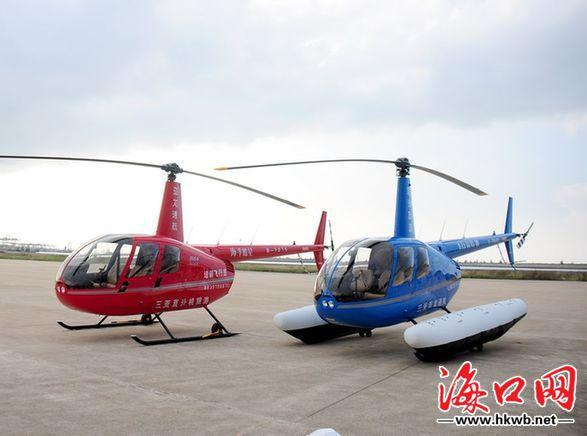airplane: (4, 153, 303, 364), (278, 152, 554, 354)
